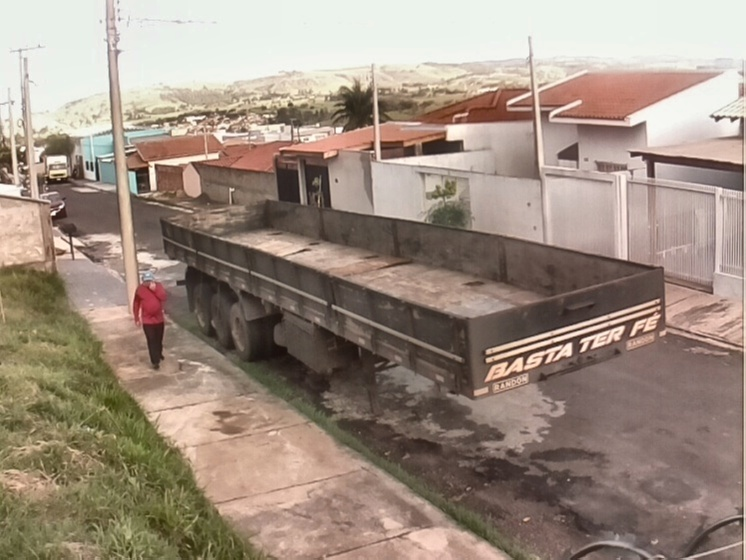person: (133, 272, 175, 372)
